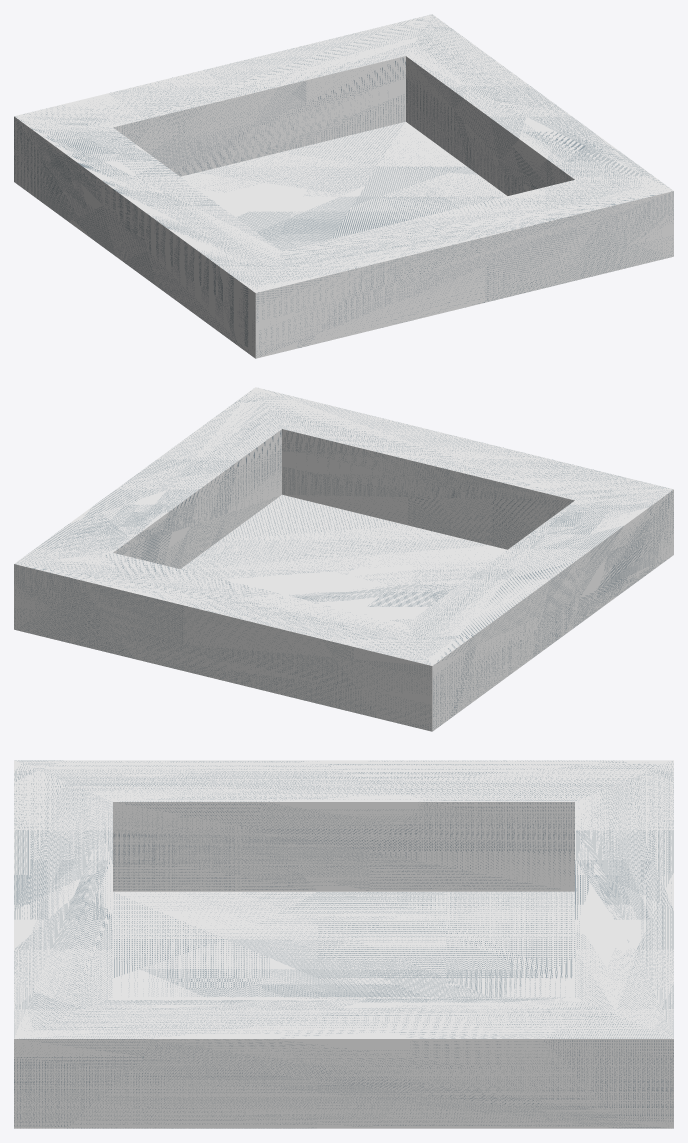
The model's file is intA.fbx.
3 renders of one model, top to bottom at view 1: azimuth 30°, elevation 25°; view 2: azimuth 150°, elevation 25°; view 3: azimuth 270°, elevation 25°, orthographic. The views are drawn at different scales.
Parts seen in each view (by area): view 1: Model; view 2: Model; view 3: Model.
Part boxes in pixels (bbox=[...]): Model: bbox=[14, 14, 673, 358]; Model: bbox=[14, 387, 673, 731]; Model: bbox=[14, 760, 673, 1128].
Size of the model in its own units: 2 by 0.3 by 2.
